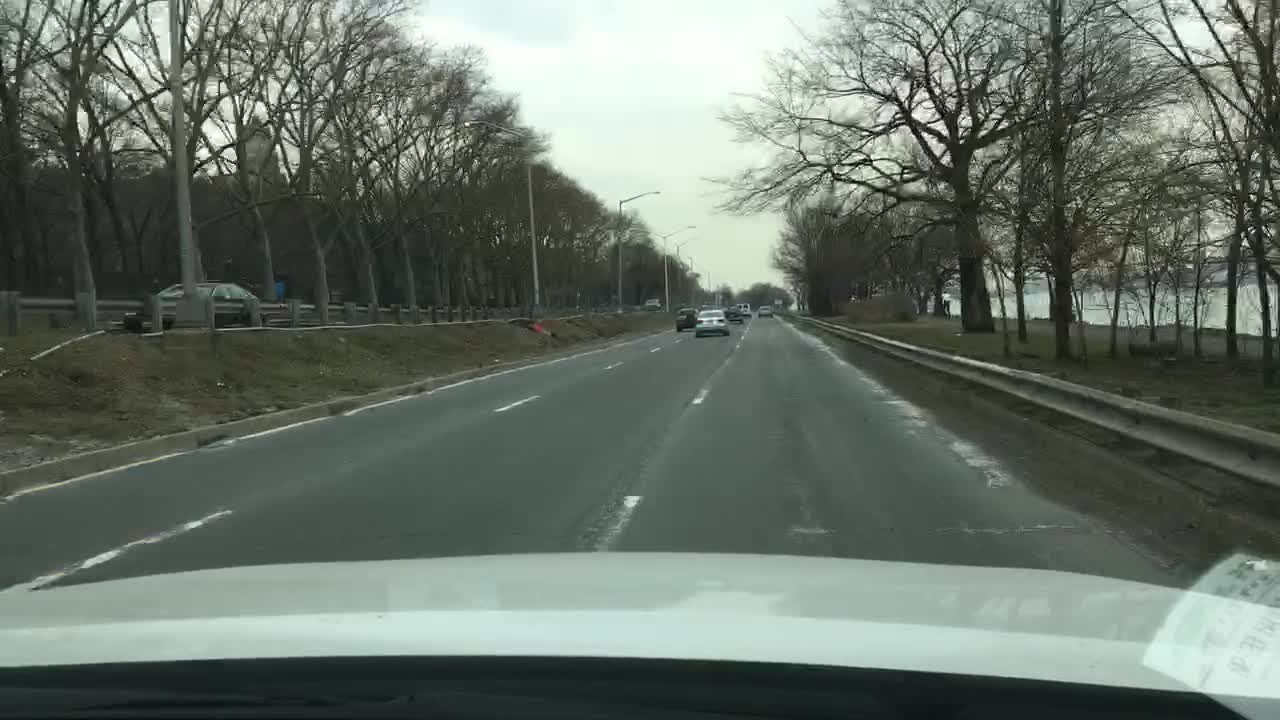car: (142, 280, 259, 326), (697, 308, 731, 338), (676, 306, 697, 330), (721, 305, 741, 321), (645, 296, 665, 311), (757, 304, 777, 318), (737, 300, 753, 316)
